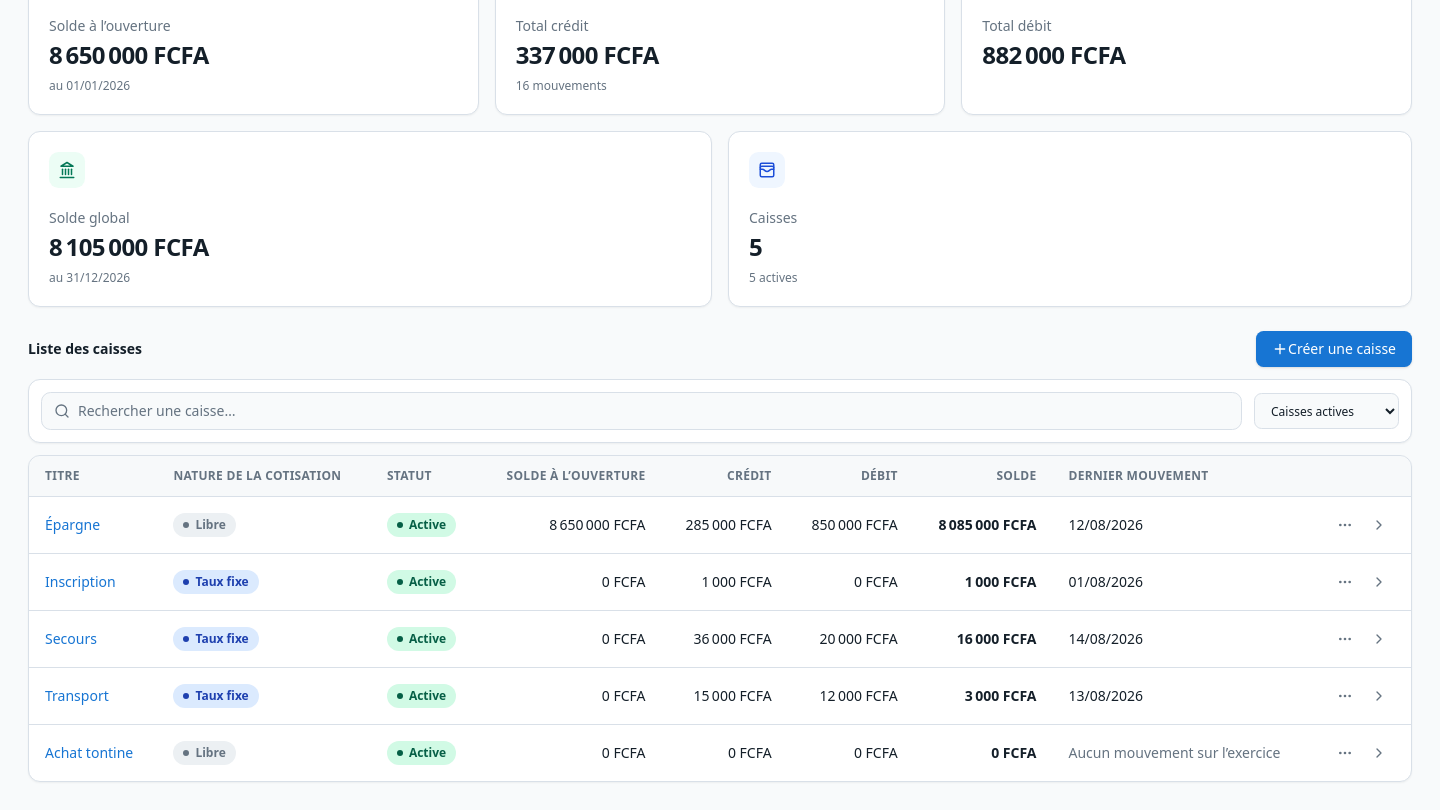
it: Caisse — cycle de vie depuis l’interface › ligne de la liste : menu « ⋯ » avec « Voir les transactions » et le cycle de vie selon le statut
The image size is (1440, 810).
(page scrolled)
Click the button named "Actions — Transport" at (1345, 696), box [1329,680,1361,712]
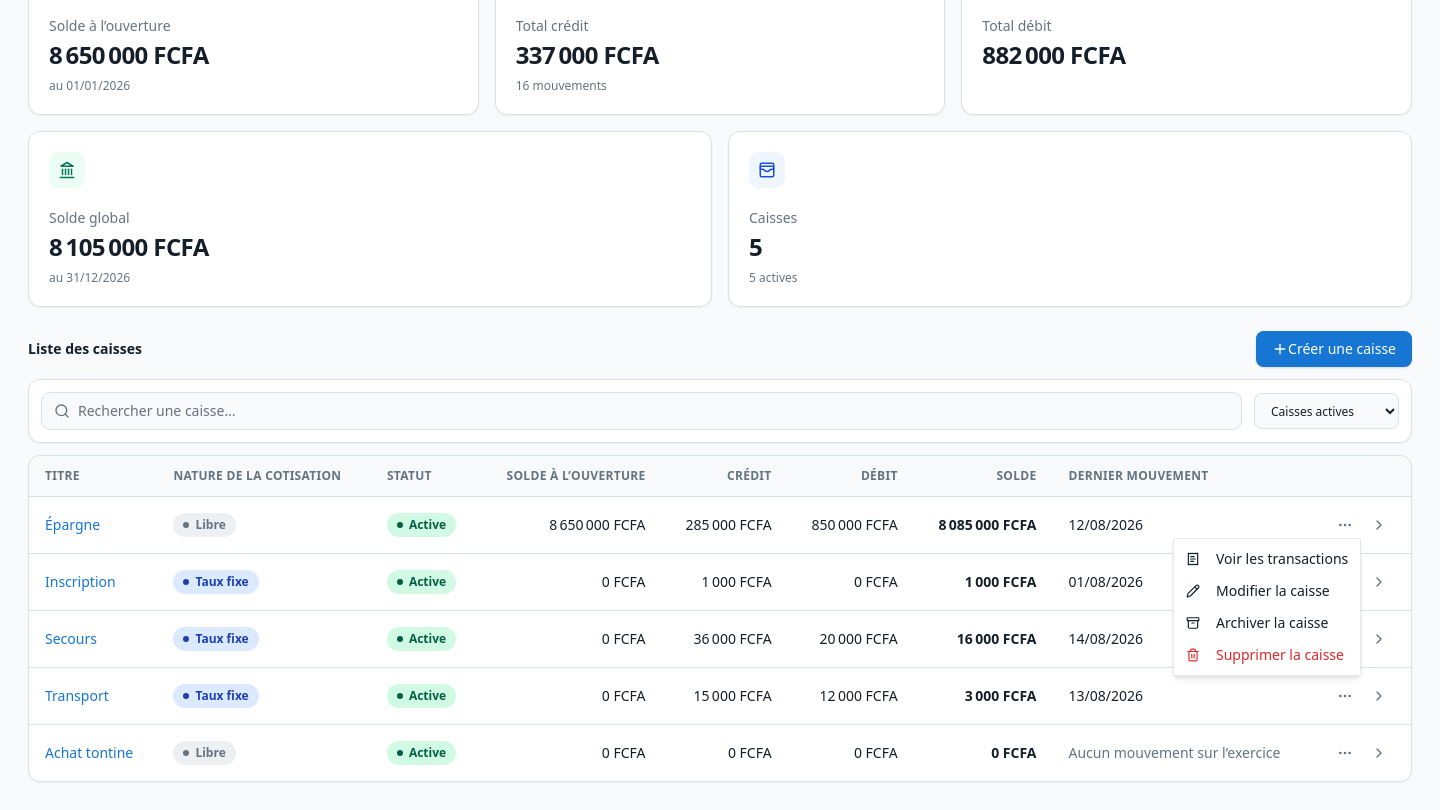
expect the menu items read "Voir les transactions", "Modifier la caisse", "Archiver la caisse", "Supprimer la caisse", in this order: met, box [1186,549,1348,568]; [1186,581,1330,600]; [1186,613,1328,632]; [1186,645,1344,664]
